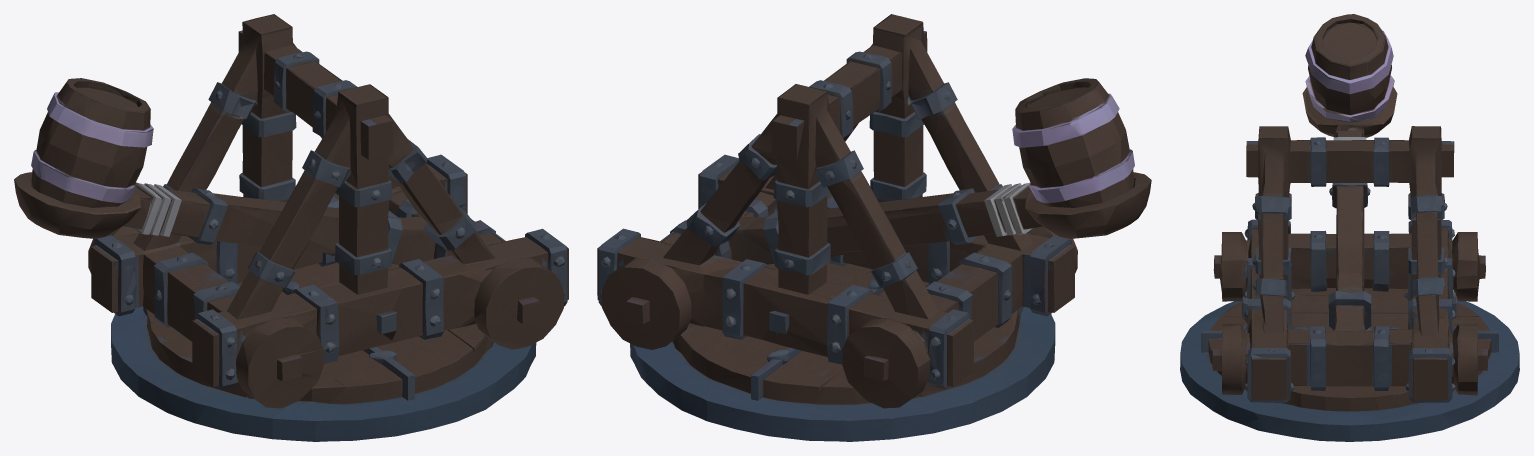
Rendered from shrapnel.glb.
The picture shows the model from 3 angles, left to right: view 1: azimuth 30°, elevation 25°; view 2: azimuth 150°, elevation 25°; view 3: azimuth 270°, elevation 25°; orthographic projection. The views are drawn at different scales.
Size of the model in its own units: 1.9 by 1.22 by 1.45.
1 material, 1 textured.
